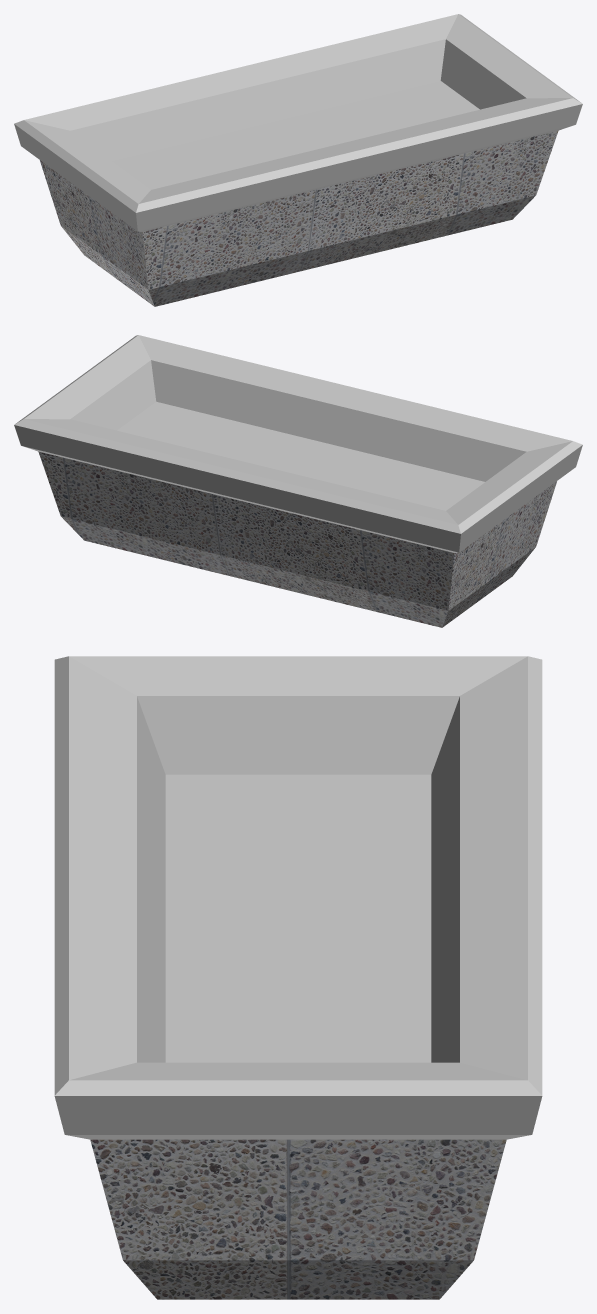
File: prp_potSquareB.fbx
The picture shows the model from 3 angles, top to bottom: view 1: azimuth 30°, elevation 25°; view 2: azimuth 150°, elevation 25°; view 3: azimuth 270°, elevation 25°; orthographic projection. The views are drawn at different scales.
Parts seen in each view (by area): view 1: prp_potSquareB; view 2: prp_potSquareB; view 3: prp_potSquareB.
Boxes of the visible parts, bbox=[...] form: prp_potSquareB: bbox=[14, 14, 582, 306]; prp_potSquareB: bbox=[14, 335, 582, 627]; prp_potSquareB: bbox=[54, 656, 542, 1299].
Bounding box in the file's own units: 274 × 75.21 × 129.
